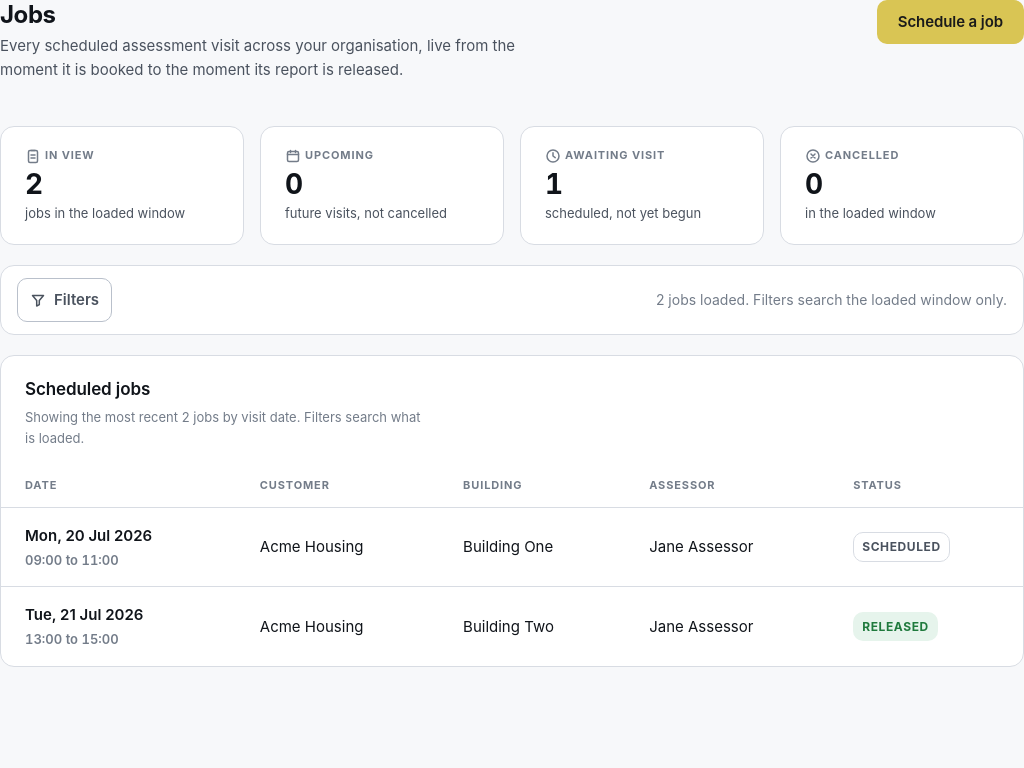
JobsBoard › keeps the filters behind a toggle that says how many are active
This screenshot has width=1024, height=768.
Step 1. Click the button "Filters" → (65, 300), box [17,278,112,322]
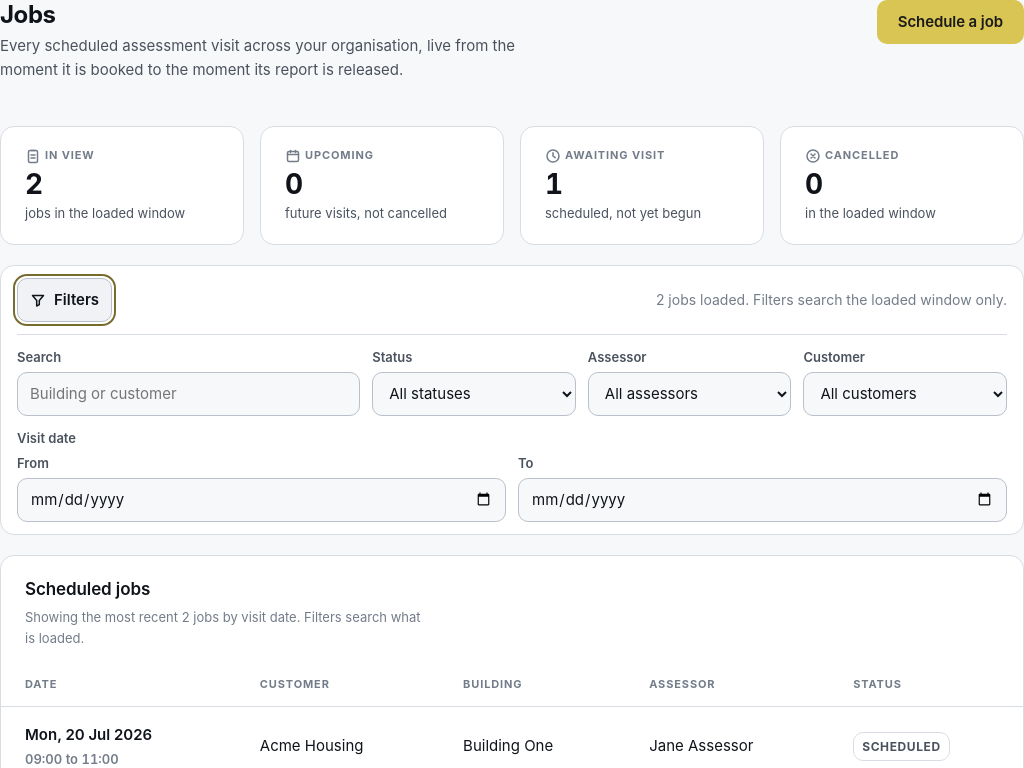
Check: the button "Filters" is expanded, box [17,278,112,322]
Step 2. Select "Released" in the dropdown labelled "Status" → (474, 394), box [372,372,576,416]
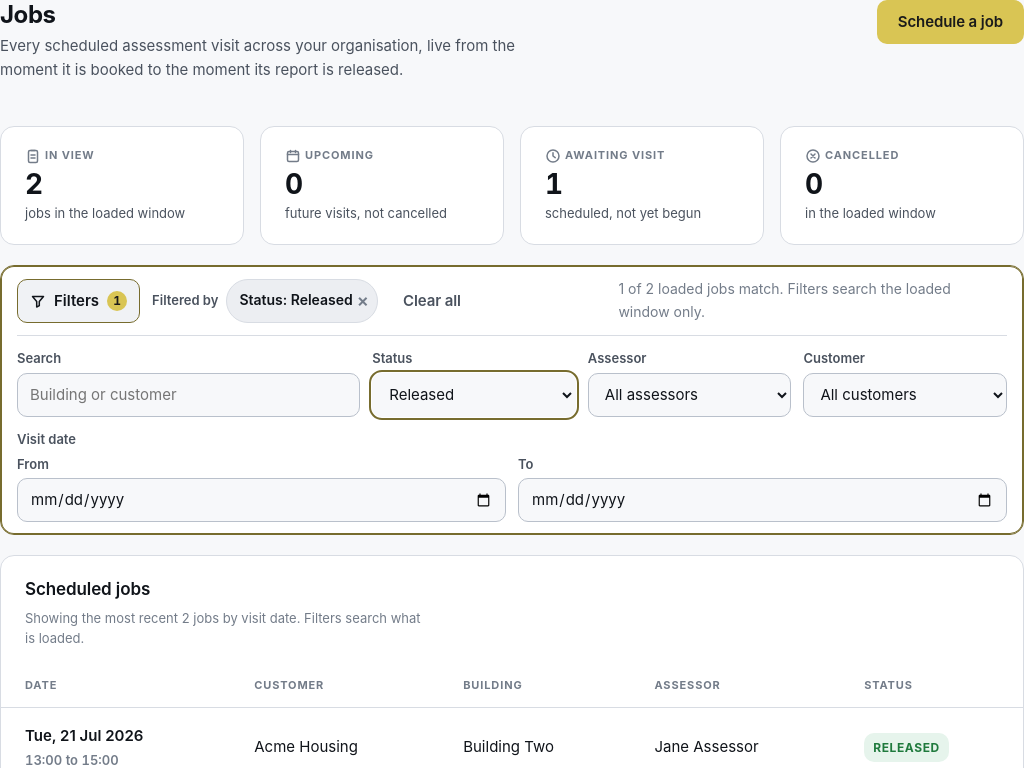
Check: the button "Filters 1" is shown, box [17,279,140,323]
And removing it from the chip clears the filter itself.
Step 3. Click the button with aria-label "Remove filter: Status: Released" → (302, 301), box [226,279,378,323]
(page scrolled)
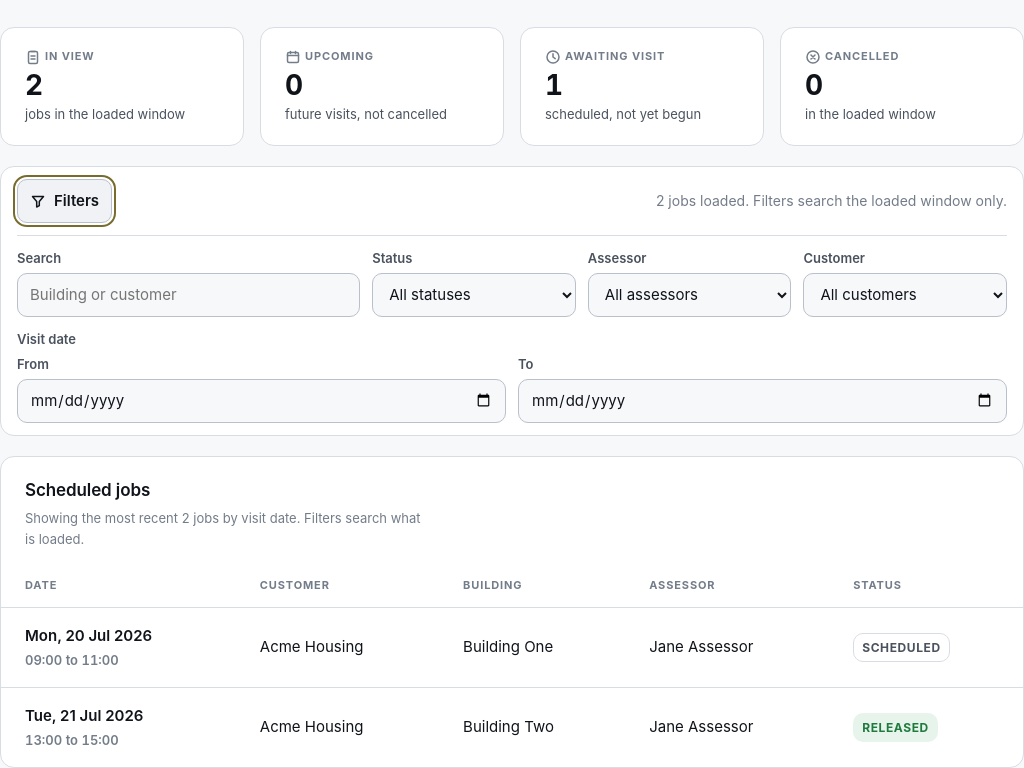
Check: the button "Filters" is shown, box [17,179,112,223]
Check: the cell "Building One" is shown, box [439,608,625,687]
